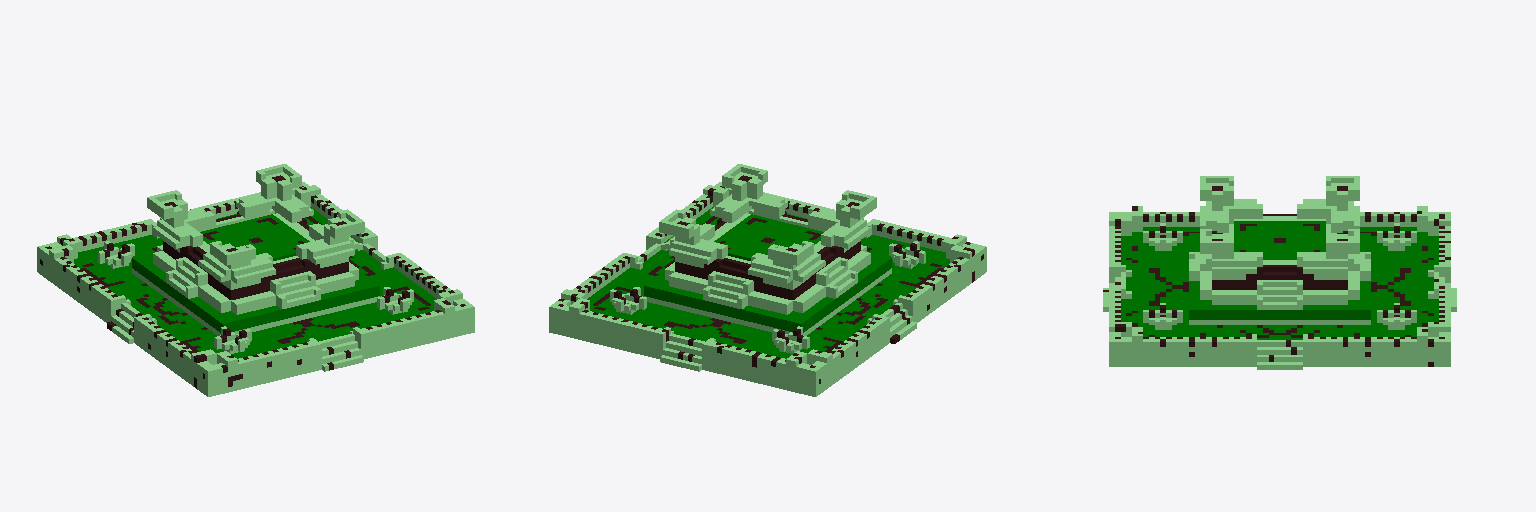
3 renders of one model, left to right at view 1: azimuth 30°, elevation 25°; view 2: azimuth 150°, elevation 25°; view 3: azimuth 270°, elevation 25°, orthographic.
Visible parts, largest first — view 1: object 1; view 2: object 1; view 3: object 1.
Part boxes in pixels (bbox=[...]): object 1: bbox=[37, 164, 474, 396]; object 1: bbox=[549, 164, 986, 396]; object 1: bbox=[1103, 176, 1456, 369].
Bounding box in the file's own units: 5.6 × 1.8 × 6.2.
1 materials, 1 textured.